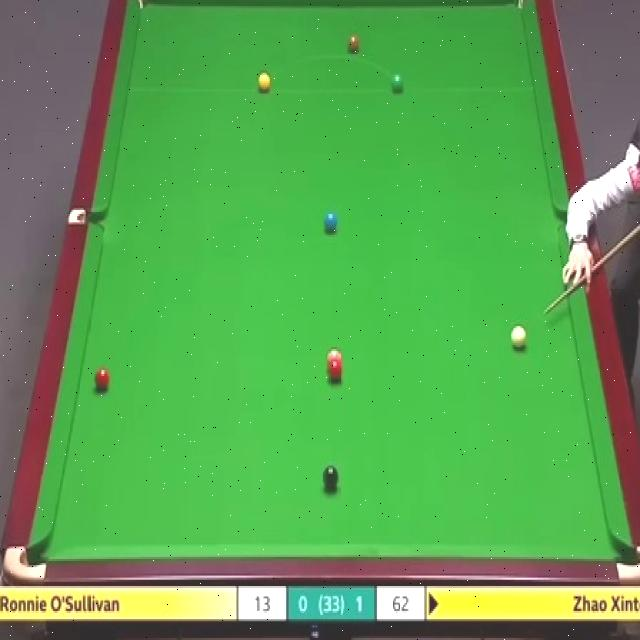black-ball: (321, 464, 339, 490)
blue-ball: (324, 210, 338, 232)
brown-ball: (346, 34, 359, 52)
green-ball: (390, 72, 404, 94)
pink-ball: (326, 347, 343, 366)
red-ball: (95, 368, 109, 390), (326, 364, 342, 381)
white-ball: (511, 326, 526, 350)
yellow-ball: (258, 73, 271, 94)
